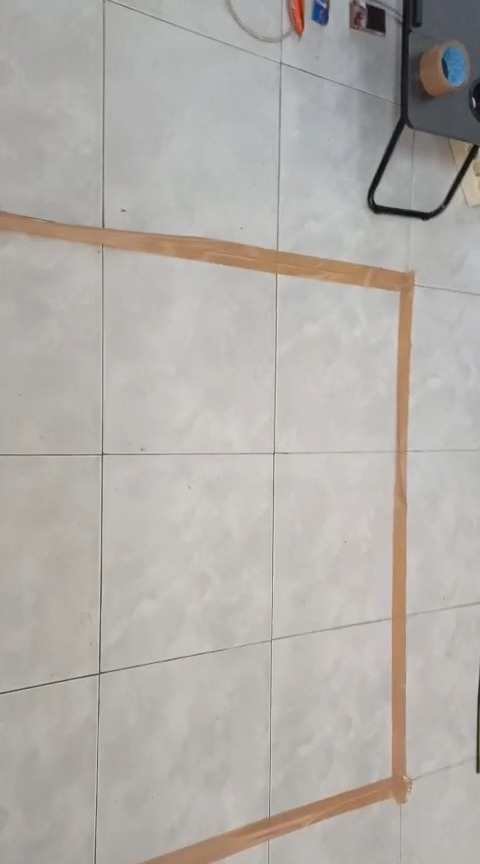floor marking: (0, 212, 414, 863)
